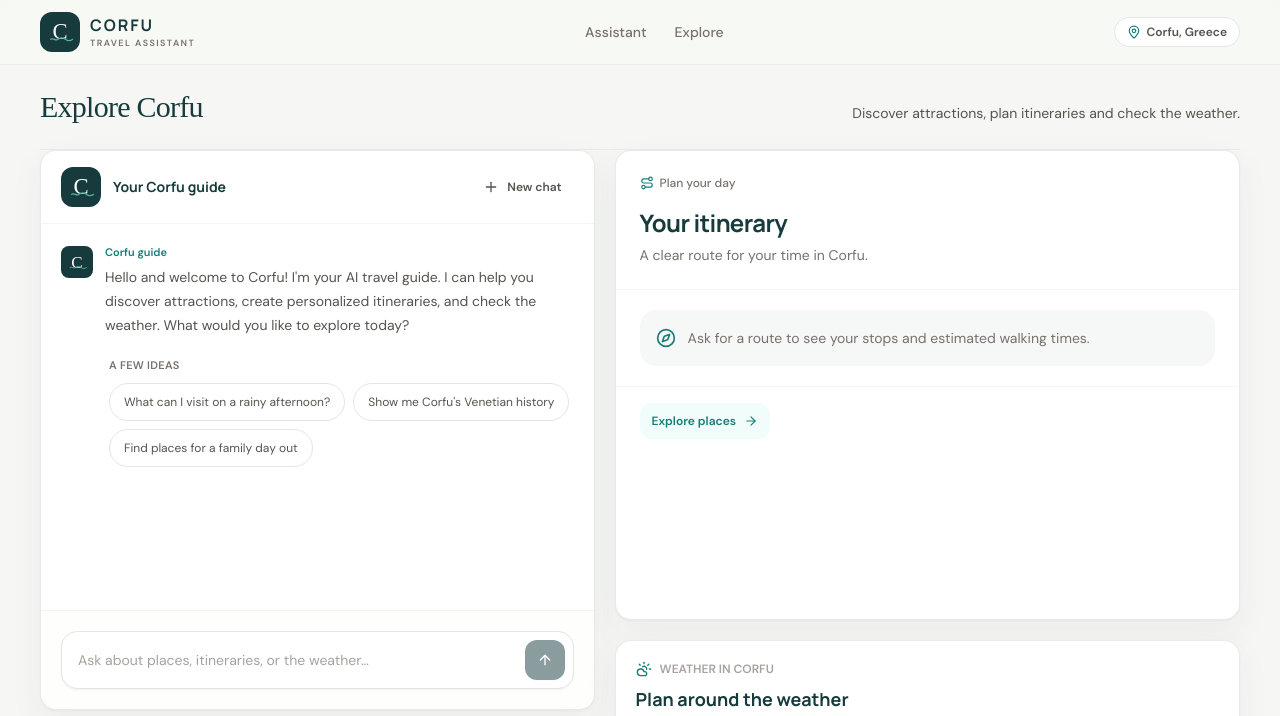
Test: Corfu assistant API integration › shows a typed weather-unavailable result without substituting fixture values
This screenshot has width=1280, height=716.
Step 1. Type "What is the current weather?" into the text box named "Message your Corfu guide" → {"x": 293, "y": 660}, box [70,640,517,680]
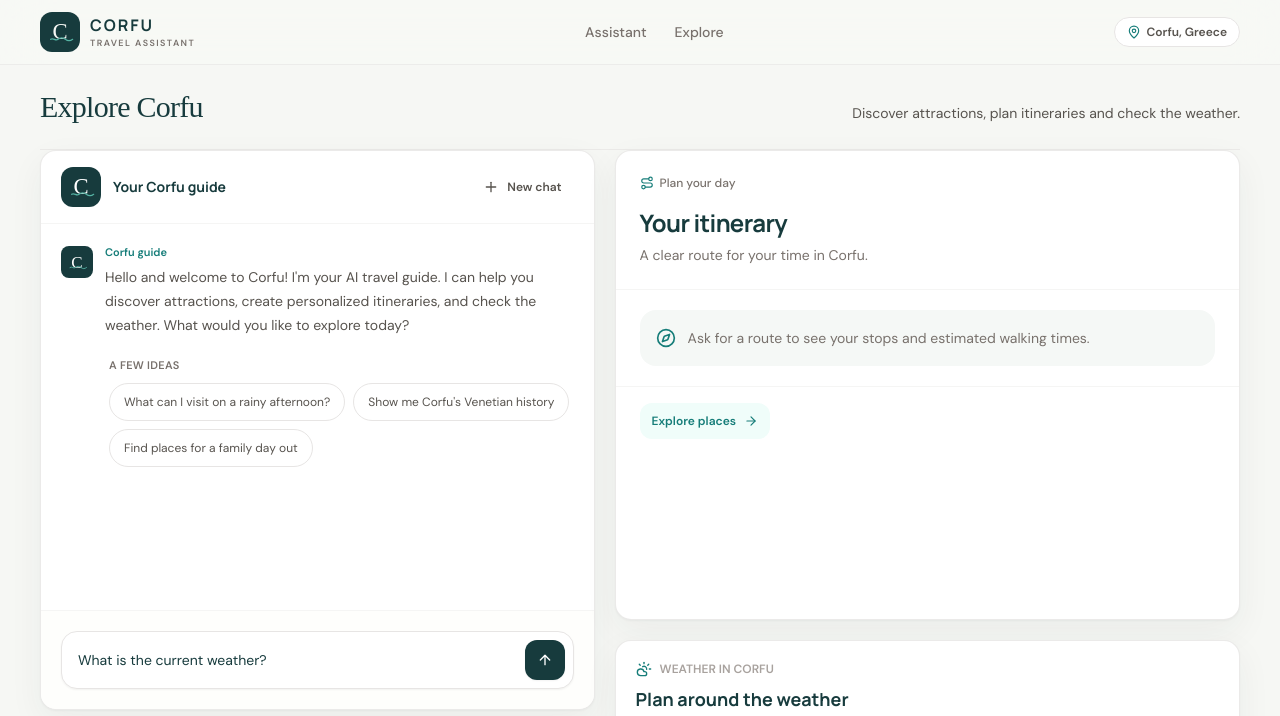
Result: the button named "Send message" is enabled
Step 2. Click the button named "Send message" → {"x": 545, "y": 660}, box [525,640,565,680]
(page scrolled)
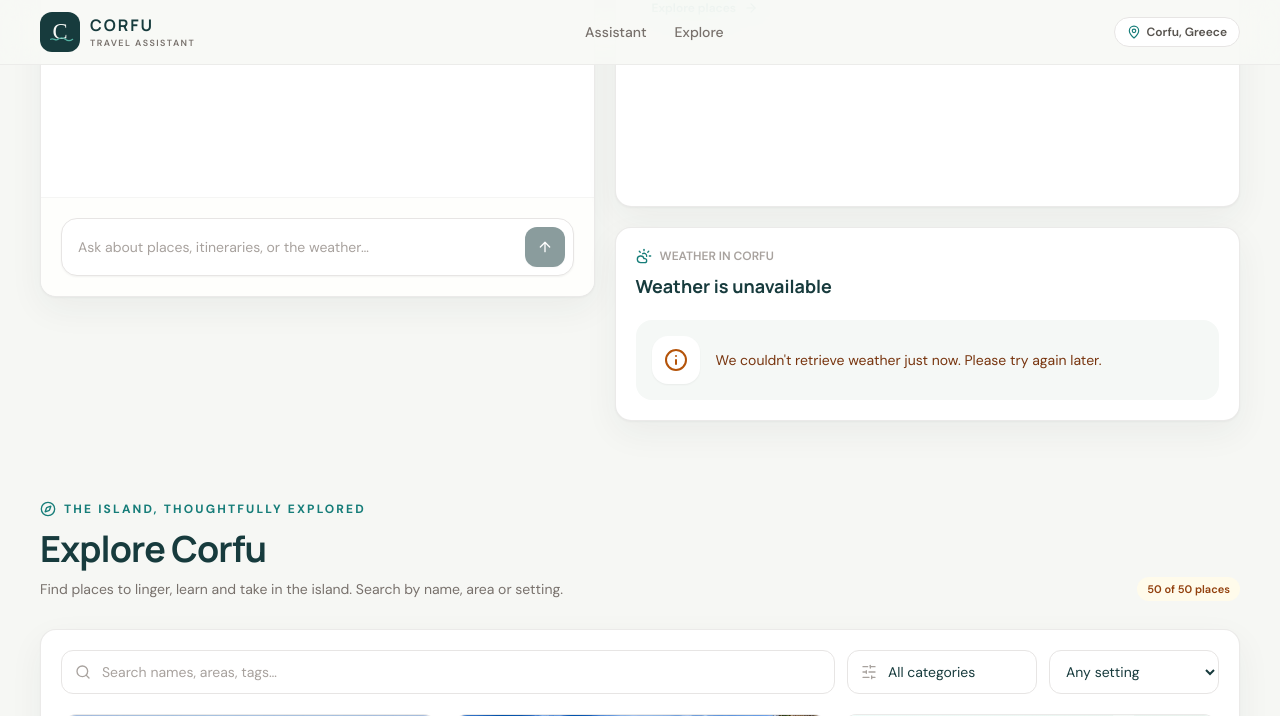
Result: the heading "Weather is unavailable" is shown at [636,272,832,300]
Result: the text "We couldn't retrieve weather just now" is shown at [716,351,1102,369]
